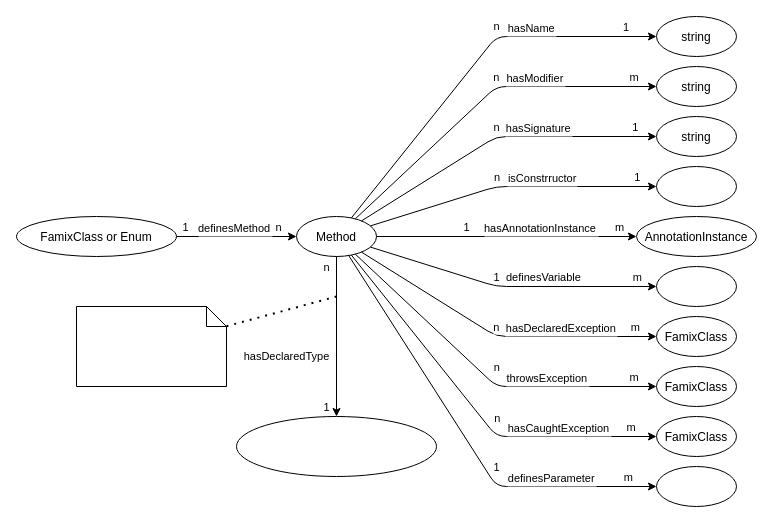
Image size: 773x523. Some labels were removed from this diagram. The shapes that lost their labels are listed below. From the top down, each one's box as (x1, y1, x2, y2) in pixels, then its label:
(656, 166, 736, 206): bool
(656, 266, 736, 306): LocalVariable
(76, 306, 226, 386): used to indicate return types constructors have no return type
(236, 416, 436, 476): FamixClass or Enum or AnnotationType or rrimitive type
(656, 466, 736, 506): Parameter
